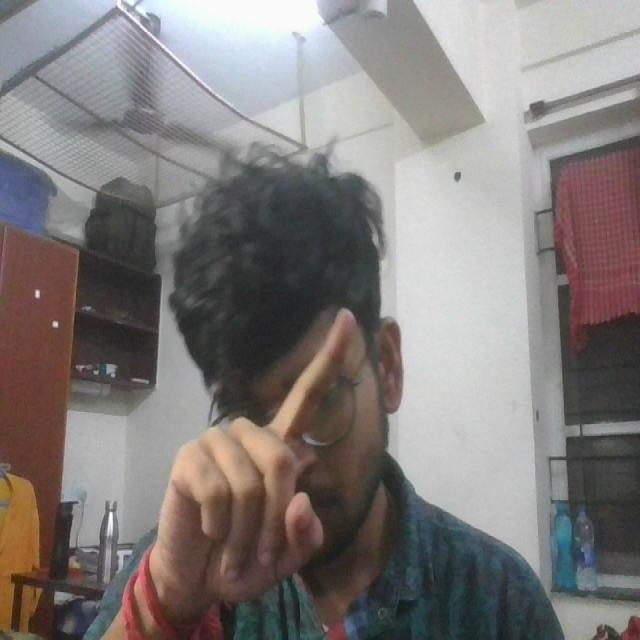No: (186, 266, 362, 605)
